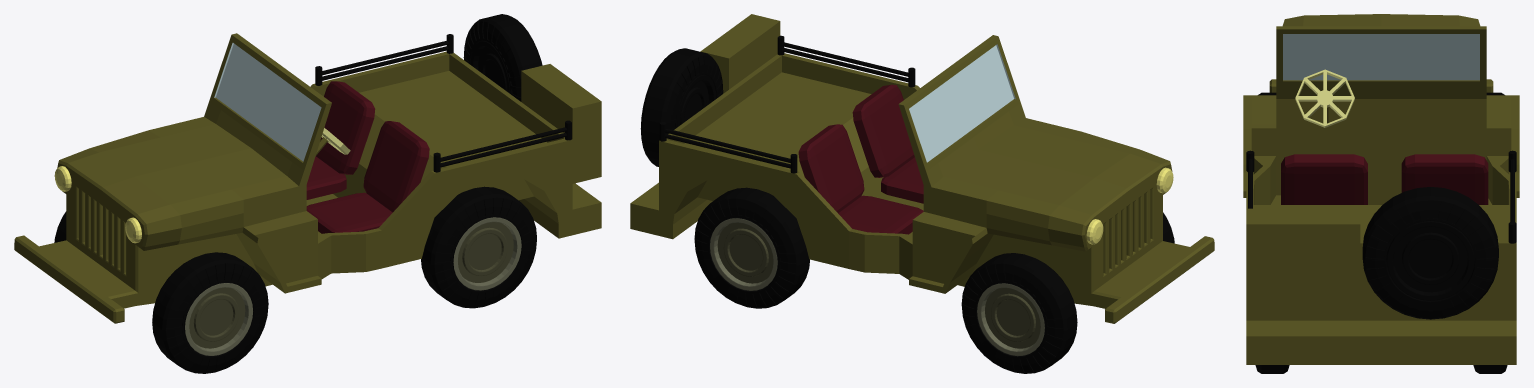
File: car.fbx
3 views of the same model, side by side, from view 1: azimuth 30°, elevation 25°; view 2: azimuth 150°, elevation 25°; view 3: azimuth 270°, elevation 25° (orthographic). The views are drawn at different scales.
Visible parts, largest first — view 1: car, wheel.001, wheel; view 2: car, wheel.001, wheel; view 3: car, steering wheel, wheel.
Boxes of the visible parts, <box> form: car: <box>14,14,601,323</box>; wheel.001: <box>54,211,268,373</box>; wheel: <box>421,186,536,308</box>; car: <box>630,14,1214,323</box>; wheel.001: <box>961,212,1174,373</box>; wheel: <box>694,187,809,308</box>; car: <box>1243,14,1519,364</box>; steering wheel: <box>1295,69,1354,127</box>; wheel: <box>1255,365,1507,373</box>.
Bounding box in the file's own units: 418 × 196 × 189.
